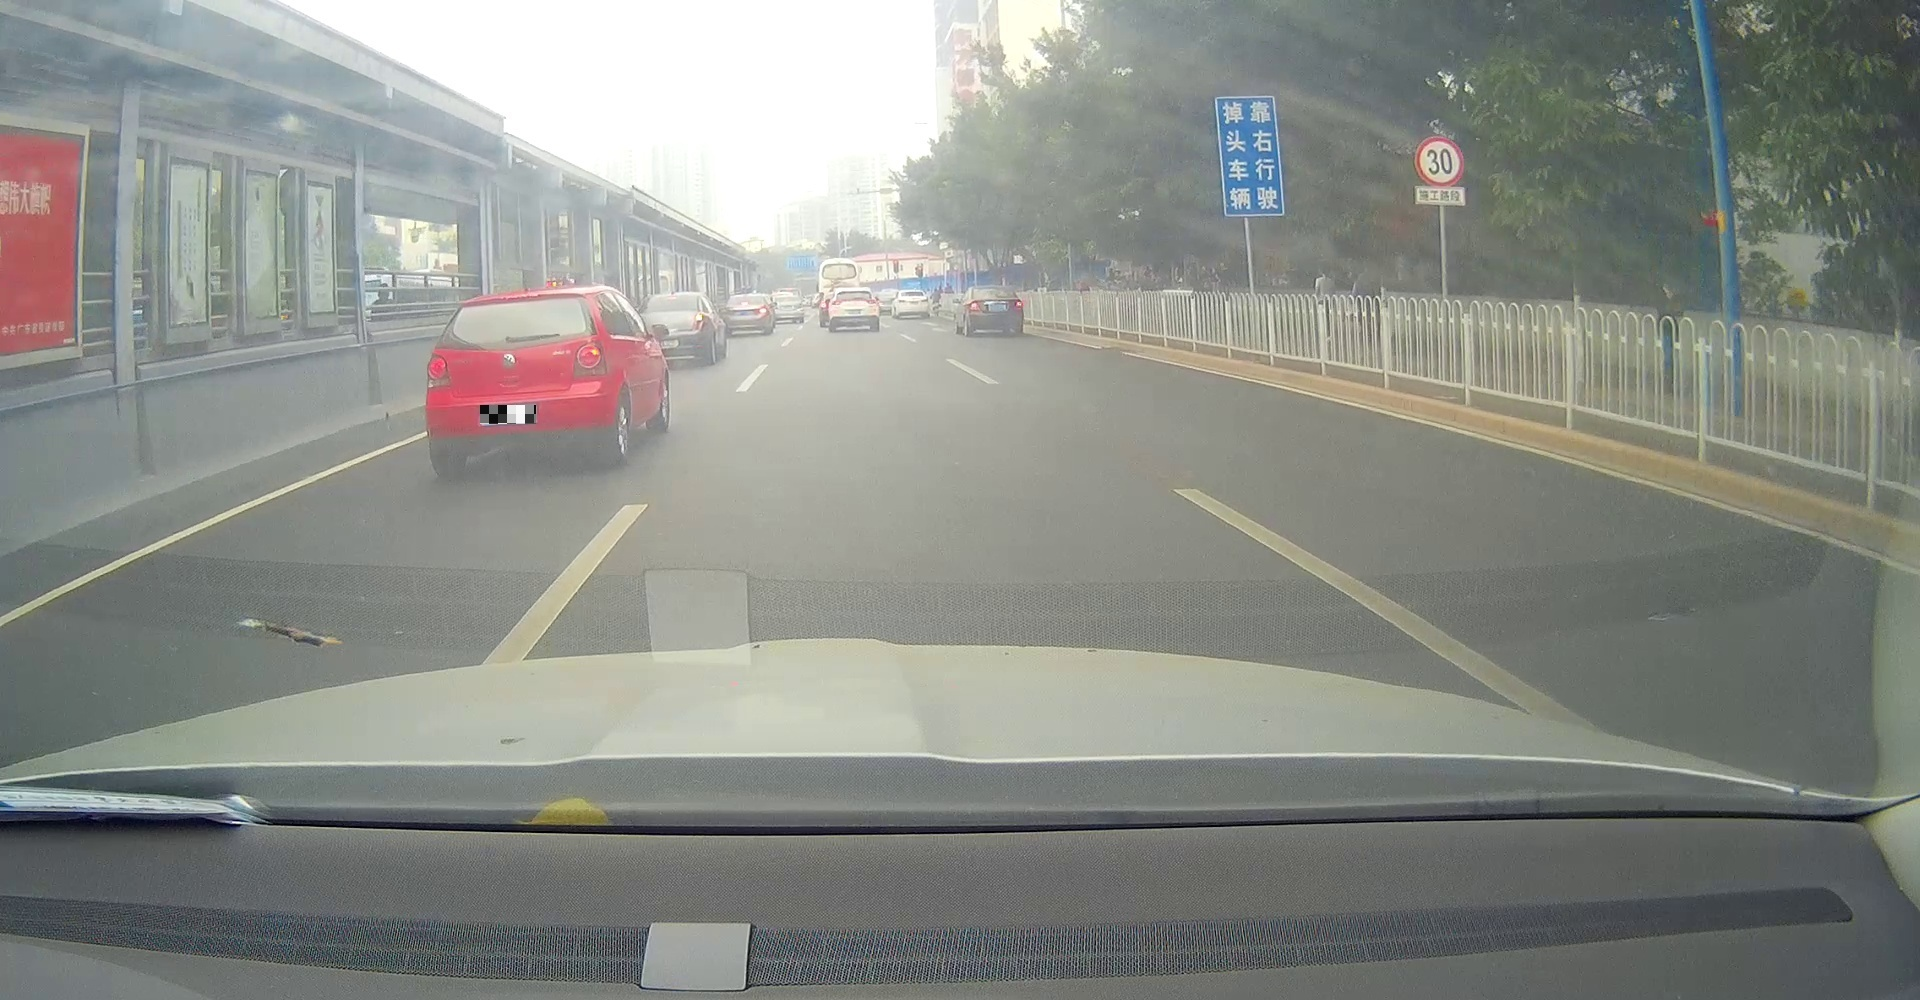L_light: (427, 353, 451, 388), (969, 301, 980, 311), (832, 299, 841, 305)
R_light: (574, 340, 604, 376), (1015, 299, 1022, 308), (866, 299, 876, 303)
T_light: (502, 301, 528, 307), (990, 288, 1001, 291), (850, 293, 857, 294)
day-no: (425, 291, 608, 478), (968, 286, 1023, 336), (829, 288, 879, 332)
plate_1: (480, 405, 536, 424)
